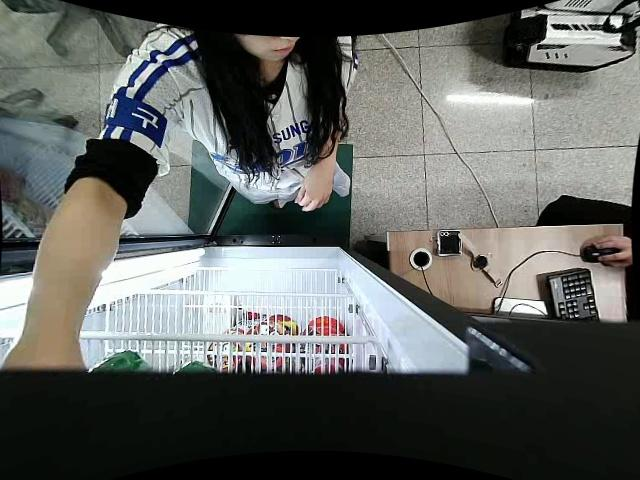00_hand: (295, 163, 334, 214)
